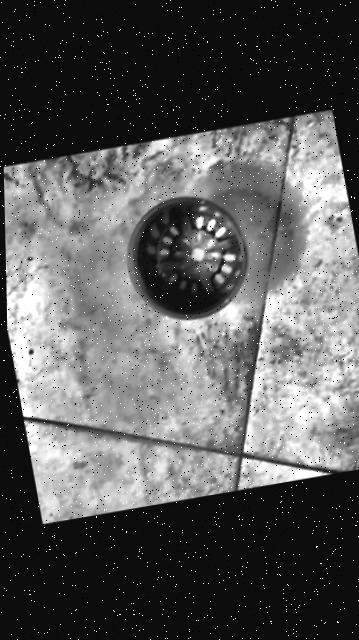pot: (118, 188, 257, 329)
